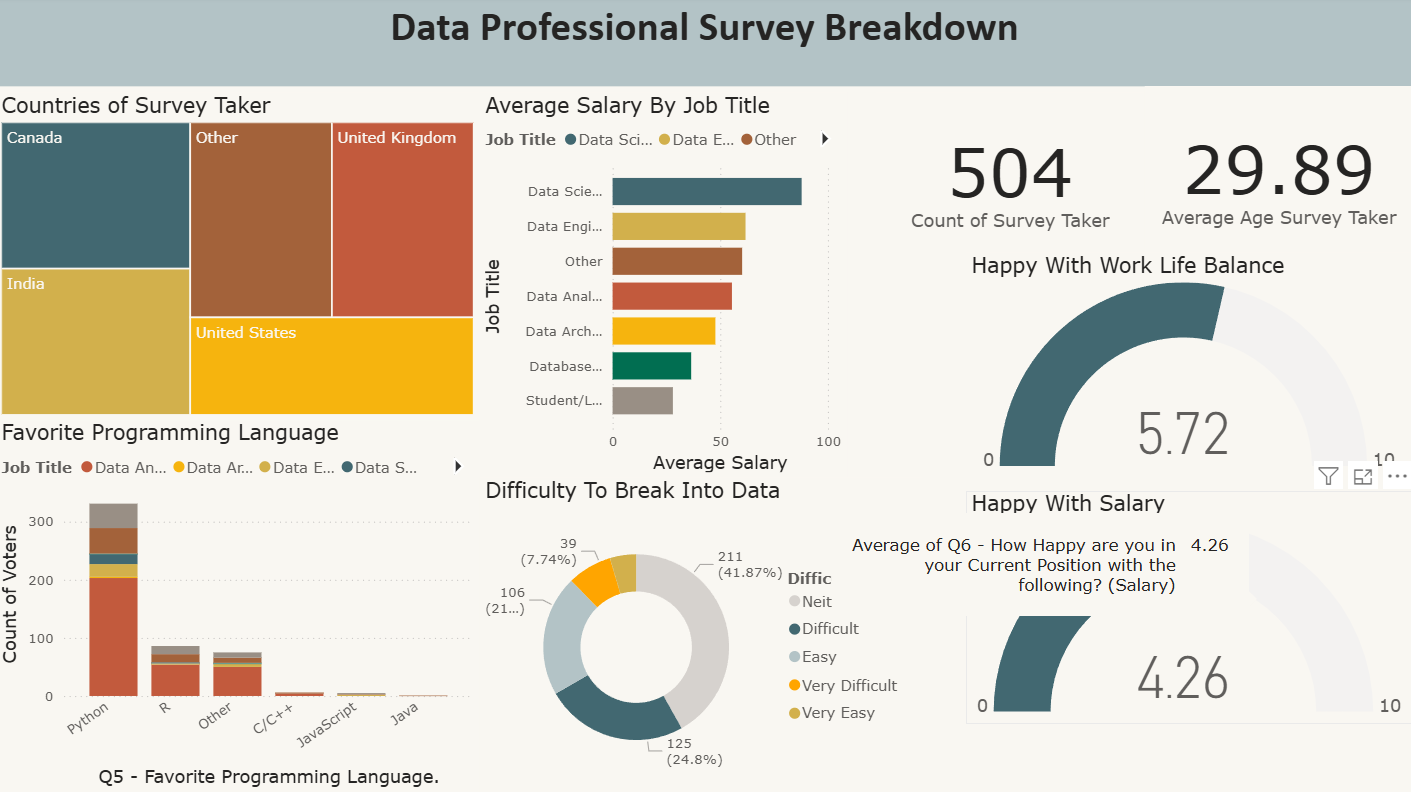

What the dashboard file says about the page in this screenshot:
{"tool":"powerbi","page":{"name":"Page 1","canvas":[1280,720],"ordinal":0},"visuals":[{"type":"textbox","box":[0,0,1280,81.7],"z":0},{"type":"card","fields":{"Values":["CountNonNull(Data Professional Survey.Unique ID)"]},"box":[794.5,86.4,242.9,156.4],"z":1000},{"type":"card","fields":{"Values":["Avg(Data Professional Survey.Q10 - Current Age)"]},"box":[1037.4,81,242.9,161.9],"z":2000},{"type":"barChart","title":"Average Salary By Job Title","fields":{"Category":["Data Professional Survey.Q1 - Which Title Best Fits your Current Role?.1"],"Y":["Avg(Data Professional Survey.Average Salary)"],"Series":["Data Professional Survey.Q1 - Which Title Best Fits your Current Role?.1"]},"box":[436.7,86.7,331.7,348.3],"z":3000},{"type":"columnChart","title":"Favorite Programming Language","fields":{"Category":["Data Professional Survey.Q5 - Favorite Programming Language.1.1"],"Y":["CountNonNull(Data Professional Survey.Unique ID)"],"Series":["Data Professional Survey.Q1 - Which Title Best Fits your Current Role?.1"]},"box":[0,383.3,436.7,336.7],"z":4000},{"type":"treemap","title":"Countries of Survey Taker","fields":{"Values":["Count(Data Professional Survey.Q11 - Which Country do you live in?.1)"],"Group":["Data Professional Survey.Q11 - Which Country do you live in?.1"]},"box":[0,86.7,436.7,296.7],"z":5000},{"type":"gauge","title":"Happy  With Work Life Balance","fields":{"Y":["Avg(Data Professional Survey.Q6 - How Happy are you in your Current Position with the following? (Work/Life Balance))"],"MinValue":["Min(Data Professional Survey.Q6 - How Happy are you in your Current Position with the following? (Work/Life Balance))"],"MaxValue":["Max(Data Professional Survey.Q6 - How Happy are you in your Current Position with the following? (Work/Life Balance))1"]},"box":[876.7,231.7,403.3,203.3],"z":6000},{"type":"gauge","title":"Happy With Salary","fields":{"Y":["Avg(Data Professional Survey.Q6 - How Happy are you in your Current Position with the following? (Salary))"],"MinValue":["Min(Data Professional Survey.Q6 - How Happy are you in your Current Position with the following? (Salary))"],"MaxValue":["Max(Data Professional Survey.Q6 - How Happy are you in your Current Position with the following? (Salary))"]},"box":[876.7,446.7,403.3,210],"z":7000},{"type":"donutChart","title":"Difficulty To Break Into Data","fields":{"Category":["Data Professional Survey.Q7 - How difficult was it for you to break into Data?"],"Y":["CountNonNull(Data Professional Survey.Q7 - How difficult was it for you to break into Data?)"]},"box":[436.7,435,400,285],"z":8000}]}

Visuals, with their boxes in screenshot pixels (x1, y1, x2, y2), scaled from the page's 1280x720 canvas onto the 1411x792 screenshot:
textbox: [0,0,1410,90]
card - CountNonNull(Data Professional Survey.Unique ID): [876,95,1144,267]
card - Avg(Data Professional Survey.Q10 - Current Age): [1144,89,1410,267]
"Average Salary By Job Title" barChart: [481,95,847,479]
"Favorite Programming Language" columnChart: [0,422,481,791]
"Countries of Survey Taker" treemap: [0,95,481,422]
"Happy  With Work Life Balance" gauge: [966,255,1410,479]
"Happy With Salary" gauge: [966,491,1410,722]
"Difficulty To Break Into Data" donutChart: [481,479,922,791]
